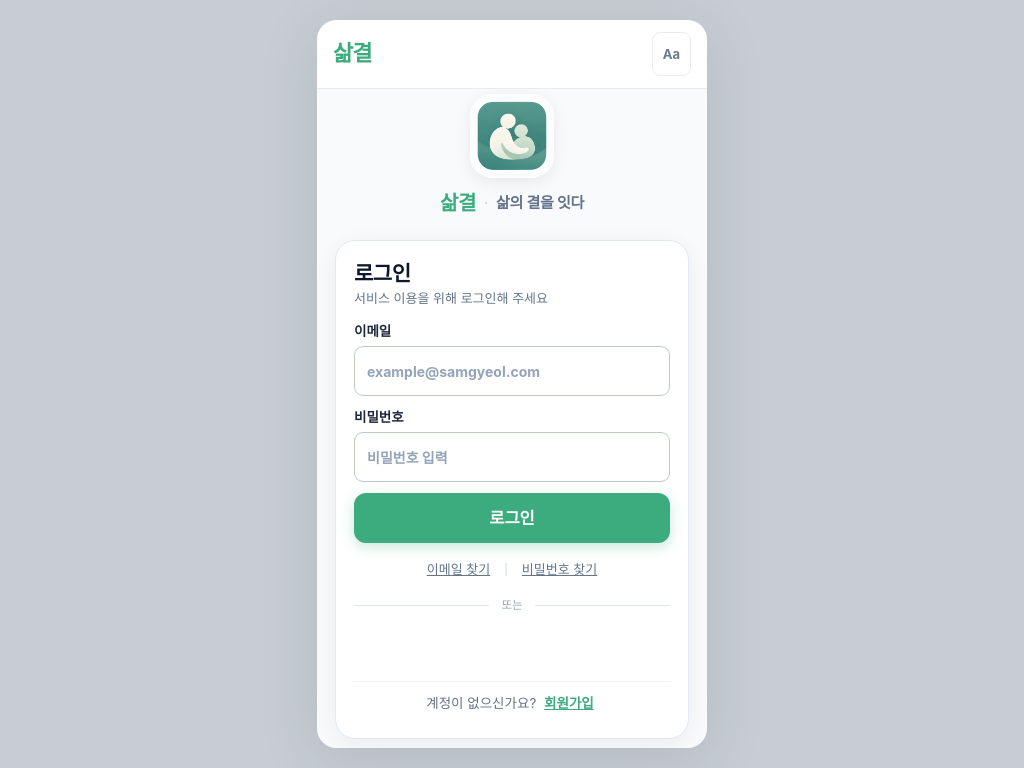
이메일 찾기 모달을 열고 정보를 입력하여 가입된 이메일을 확인한다
Click the button "이메일 찾기": [458, 570] box [423,556,494,584]
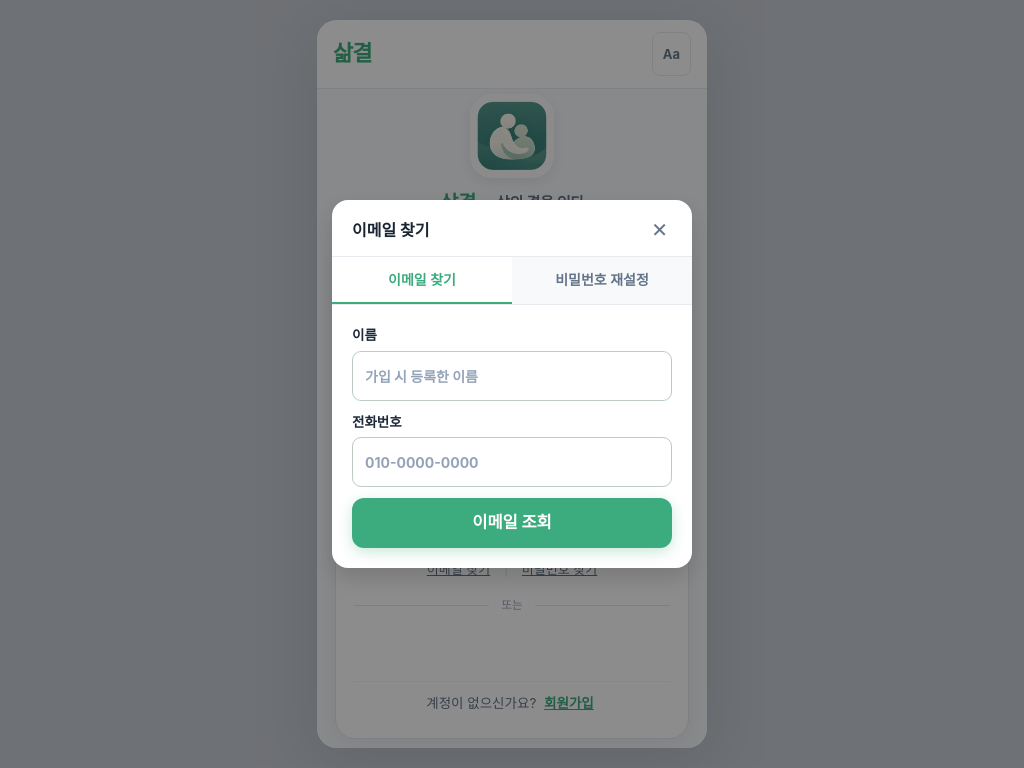
Expected: the dialog named "계정 찾기" is shown
In the field with placeholder "가입 시 등록한 이름": [512, 376] box [352,350,672,400], type "홍길동"
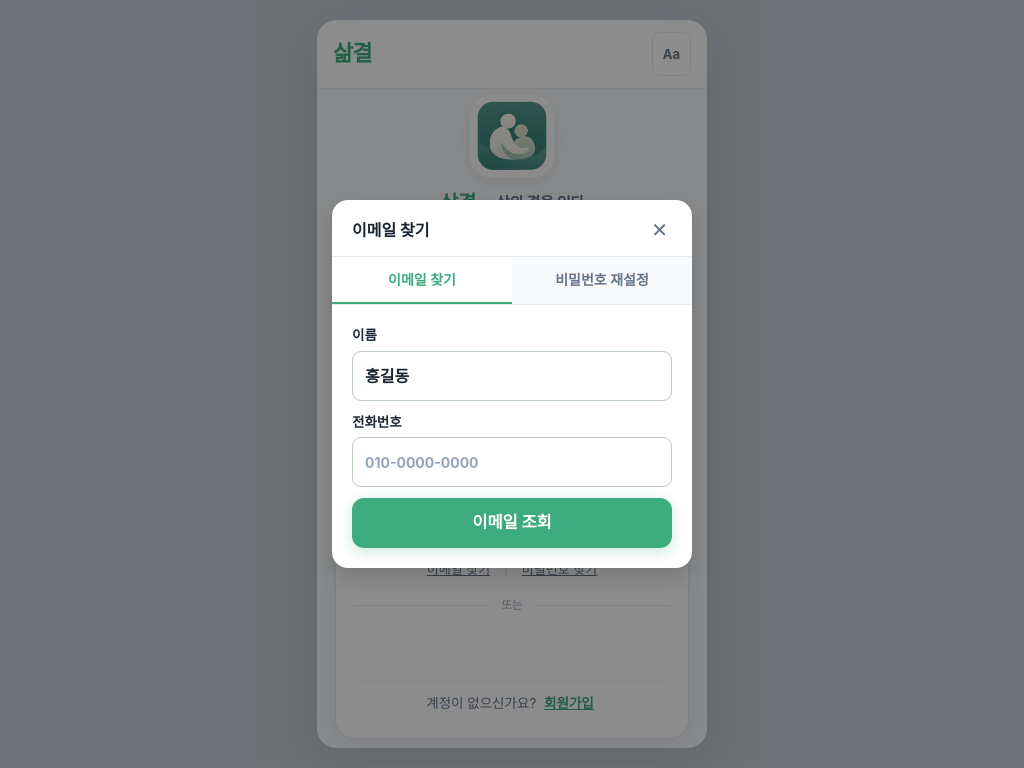
In the field with placeholder "010-0000-0000": [512, 462] box [352,437,672,487], type "010-1234-5678"
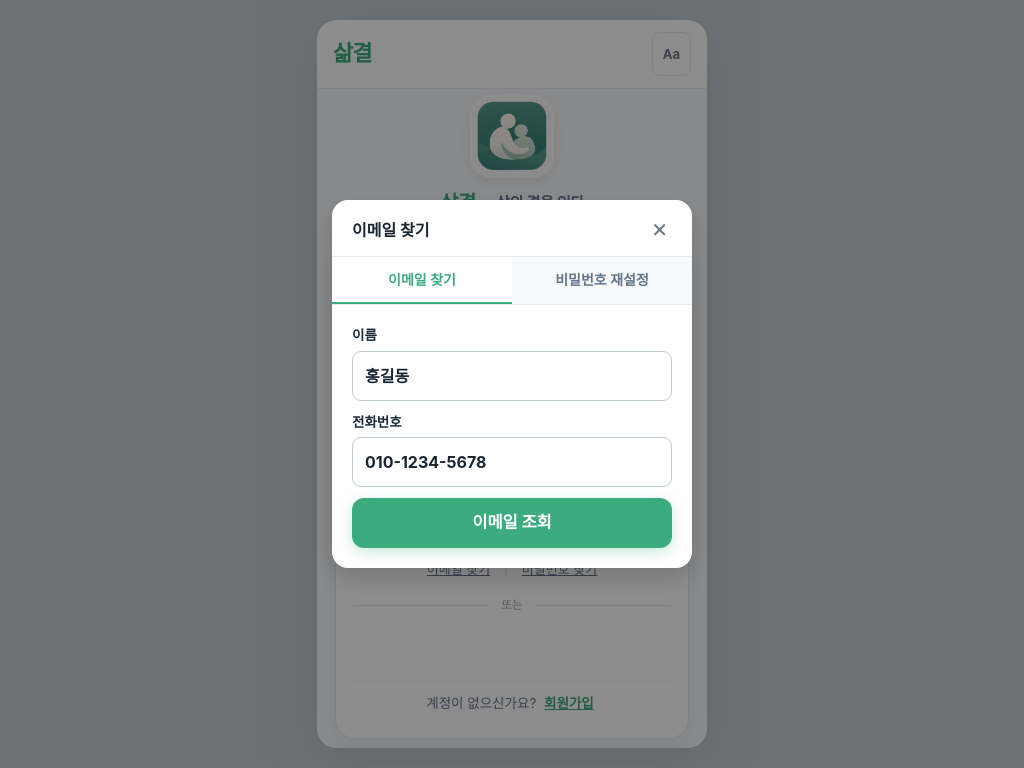
Click the button "이메일 조회": [512, 523] box [352,498,672,548]
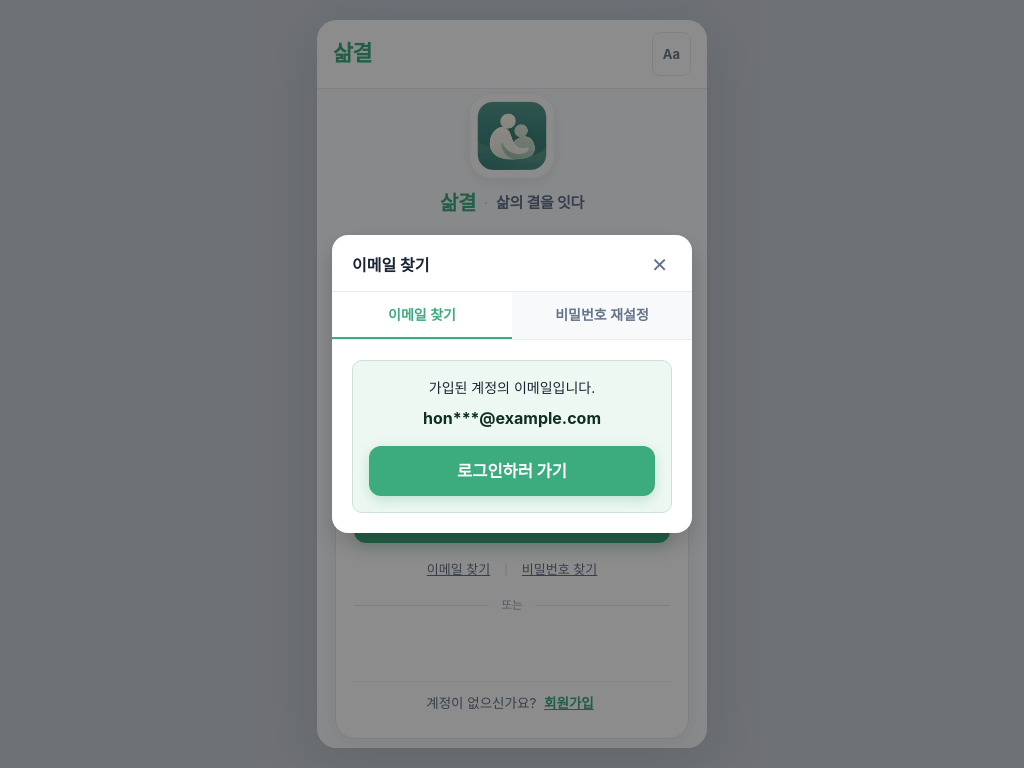
Expected: the text "hon***@example.com" is shown, [423,408,601,428]
Click the button "로그인하러 가기": [512, 471] box [369,446,655,496]
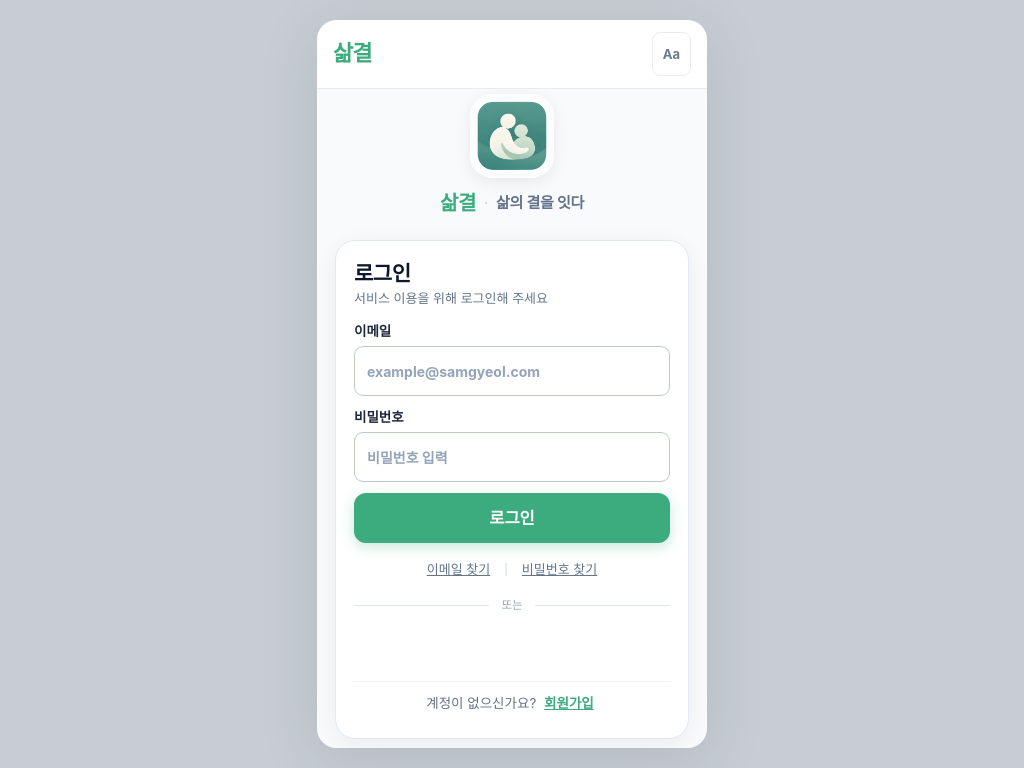
Expected: the dialog is gone
